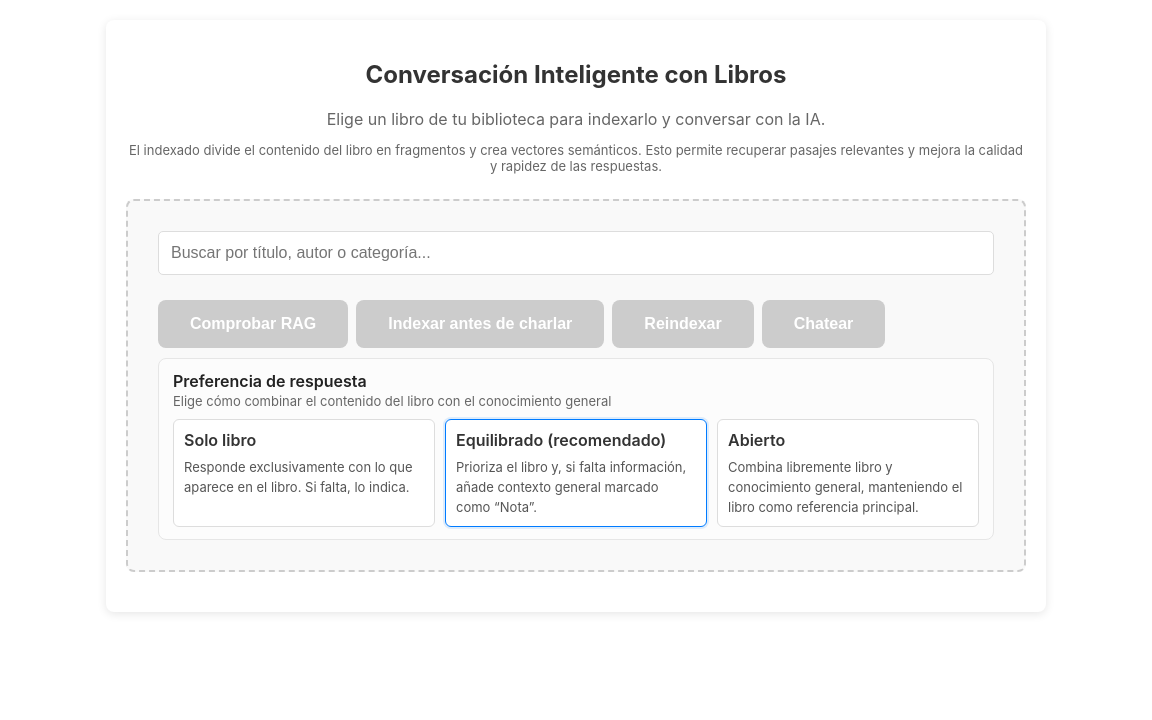
Test: RagView › handles search with no results
The width and height of the screenshot is (1152, 720).
Type "NonExistentBook" into the field with placeholder "Buscar por título, autor o categoría..." at (576,253), box 158,231 -> 994,275
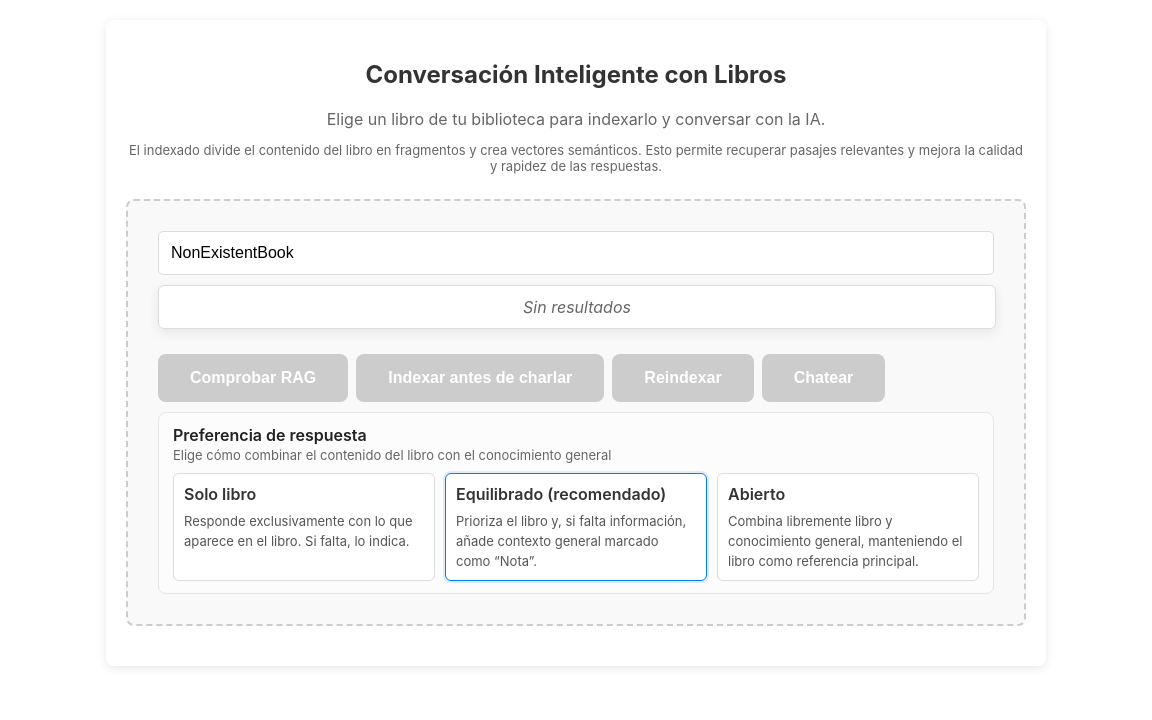
Expected: the list item "Sin resultados" is shown, 523,297 -> 631,317
